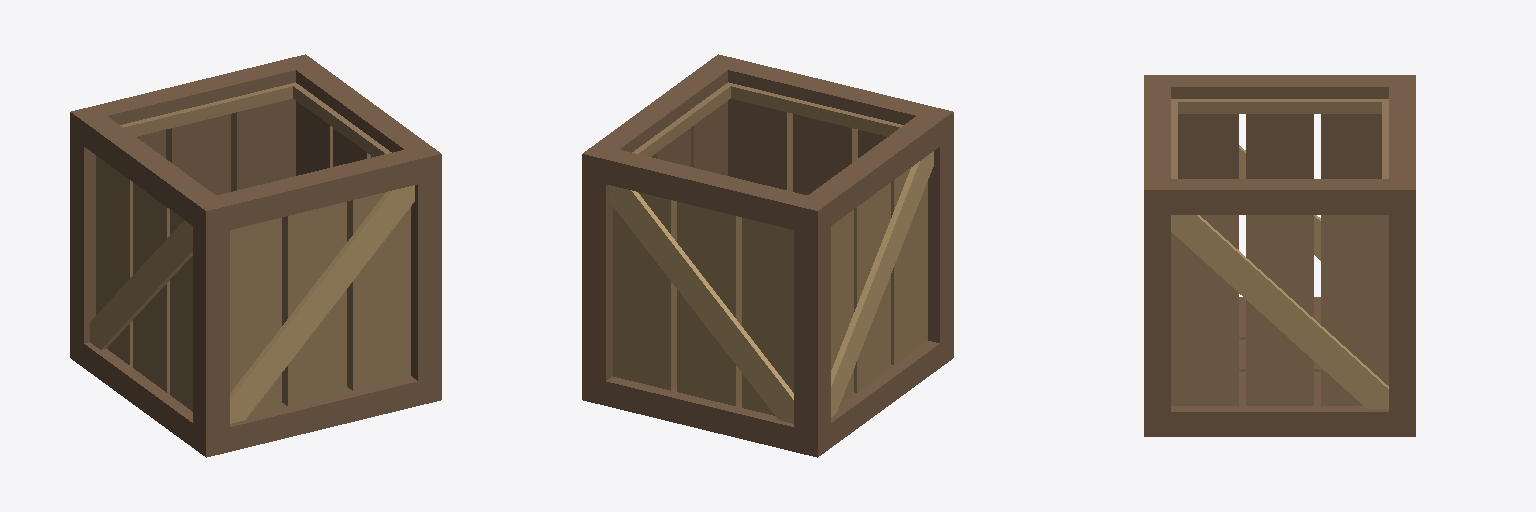
File: BoxLidless.obj
The picture shows the model from 3 angles: view 1: azimuth 30°, elevation 25°; view 2: azimuth 150°, elevation 25°; view 3: azimuth 270°, elevation 25°; orthographic projection.
Visible parts, largest first — view 1: mergedBlocks; view 2: mergedBlocks; view 3: mergedBlocks.
Part boxes in pixels (x1,y1,x2,y2): mergedBlocks: (70,54,441,457); mergedBlocks: (582,54,953,457); mergedBlocks: (1144,75,1415,436).
Size of the model in its own units: 1 by 1 by 1.